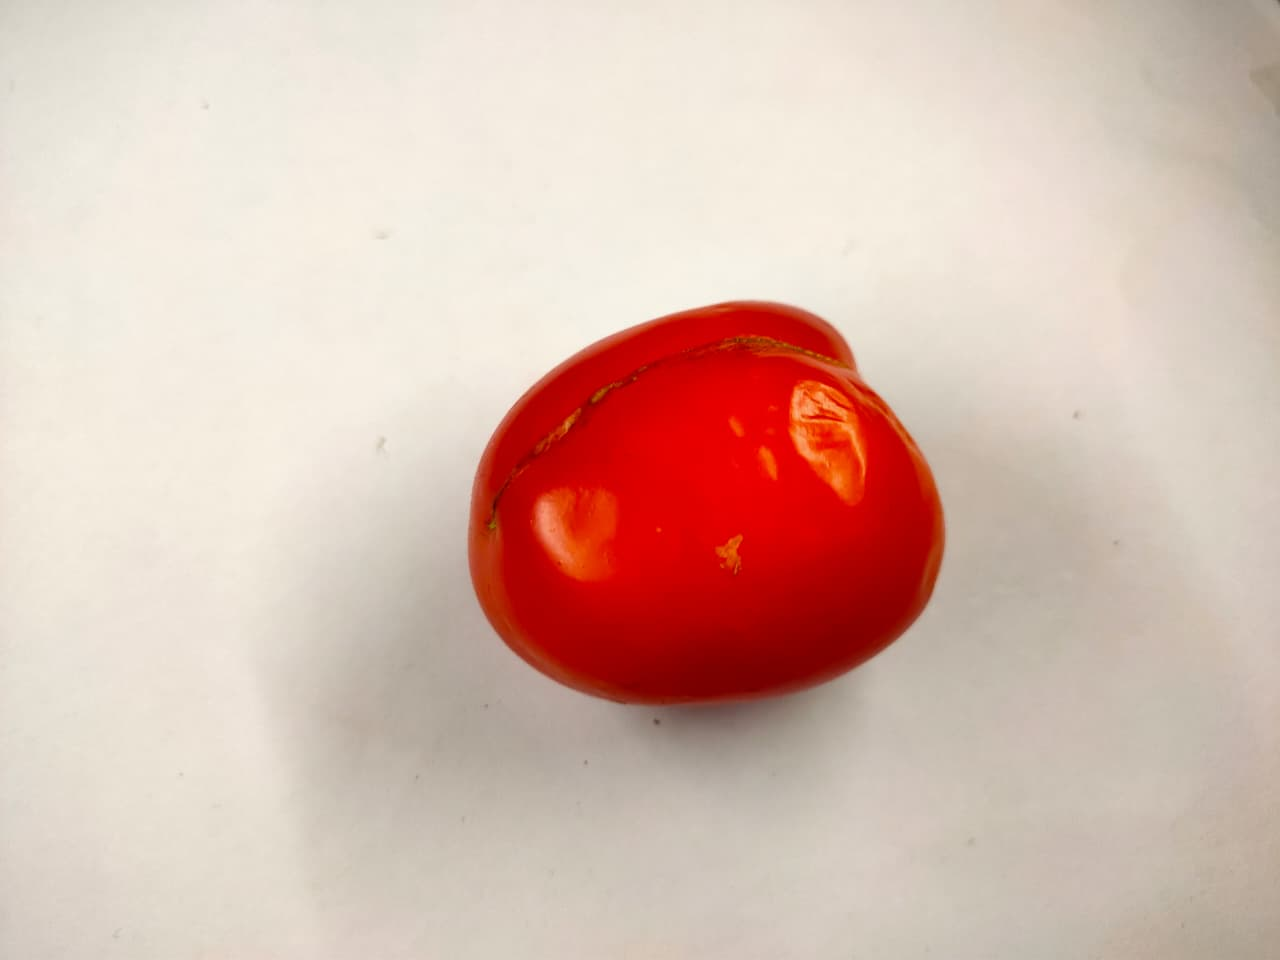damaged: (494, 272, 946, 726)
